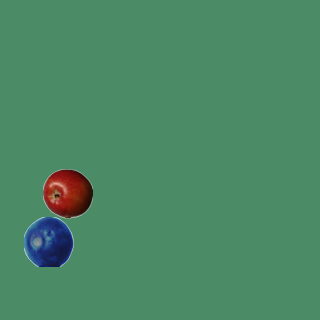Apple Braeburn: (42, 168, 92, 218)
Huckleberry: (23, 216, 73, 266)
